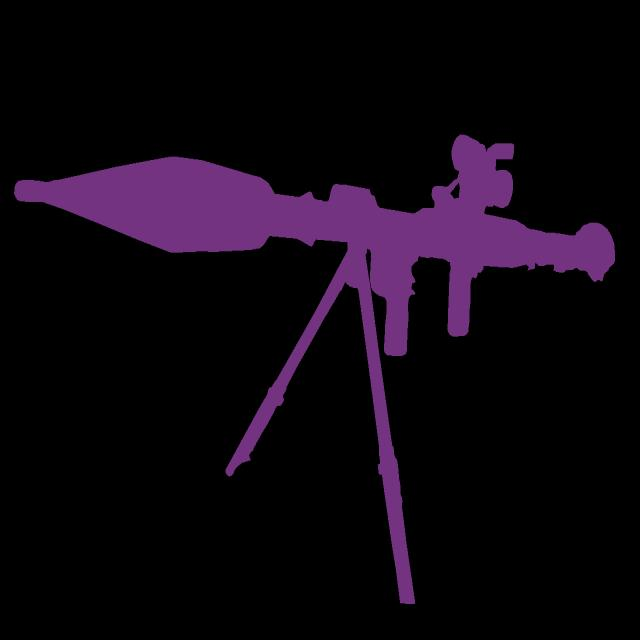grenade: (8, 148, 309, 269)
rocket: (310, 134, 615, 356)
